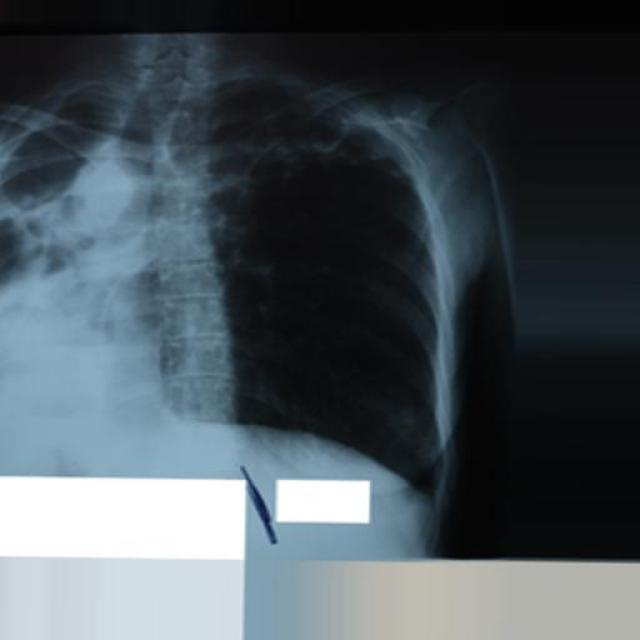tuberculosis: (1, 0, 635, 559)
